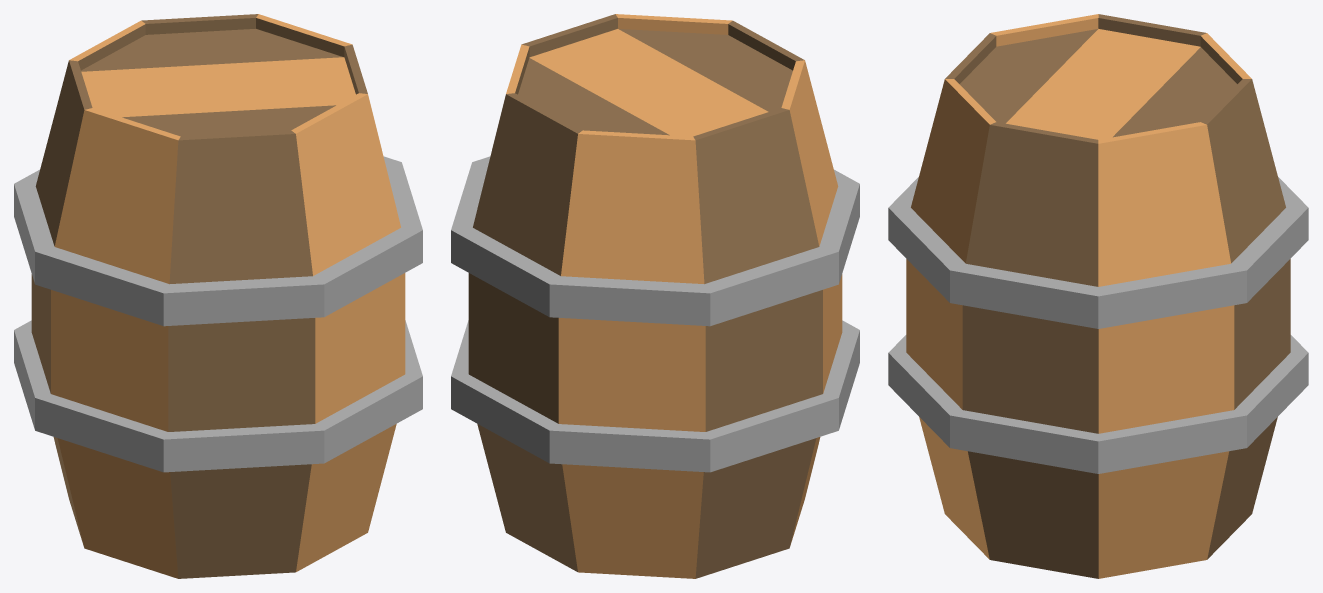
The model's file is Barrel.fbx.
3 views of the same model, side by side, from view 1: azimuth 30°, elevation 25°; view 2: azimuth 150°, elevation 25°; view 3: azimuth 270°, elevation 25° (orthographic).
Parts seen in each view (by area): view 1: Barrel; view 2: Barrel; view 3: Barrel.
Part boxes in pixels (x1,y1,x2,y2): Barrel: (14, 14, 422, 578); Barrel: (451, 14, 859, 578); Barrel: (888, 14, 1308, 578).
Bounding box in the file's own units: 70 × 80 × 70.
